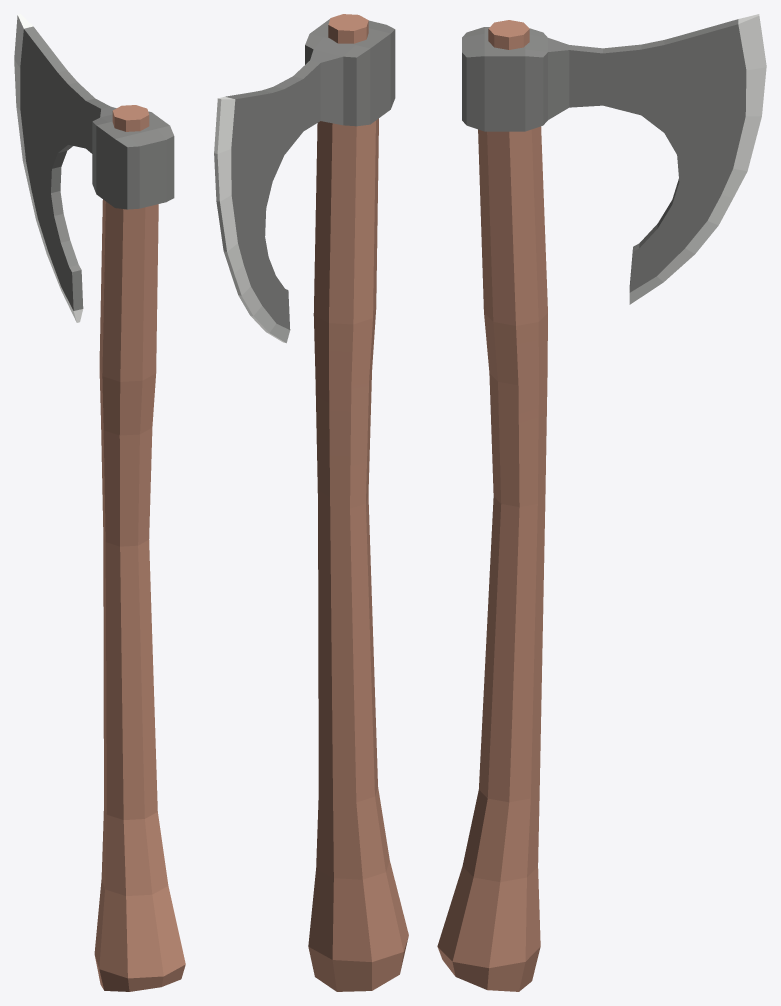
The model's file is ankers-low-poly-medieval-weapons--two-handed-axe.glb.
The picture shows the model from 3 angles, left to right: view 1: azimuth 30°, elevation 25°; view 2: azimuth 150°, elevation 25°; view 3: azimuth 270°, elevation 25°; orthographic projection. The views are drawn at different scales.
Parts seen in each view (by area): view 1: Two-Handed Axe; view 2: Two-Handed Axe; view 3: Two-Handed Axe.
Boxes of the visible parts, x1=… form: Two-Handed Axe: x1=14, y1=14, x2=185, y2=991; Two-Handed Axe: x1=214, y1=14, x2=408, y2=991; Two-Handed Axe: x1=437, y1=14, x2=766, y2=991.
Size of the model in its own units: 0.1646 by 1.7 by 0.5246.
